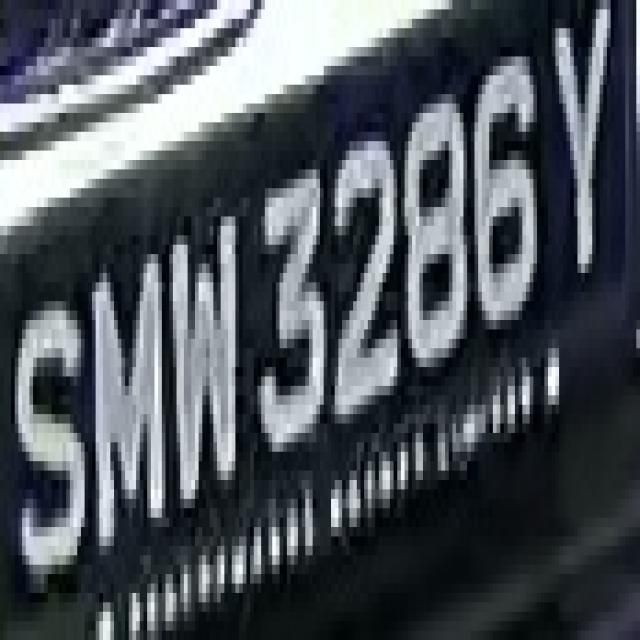2: (324, 113, 412, 452)
3: (250, 170, 335, 462)
6: (460, 47, 540, 358)
8: (379, 85, 478, 395)
M: (88, 236, 169, 536)
S: (7, 273, 92, 583)
W: (154, 188, 243, 527)
Y: (541, 9, 625, 310)
